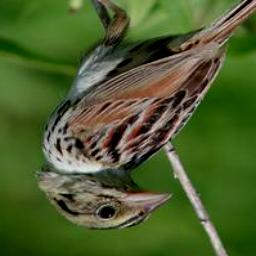Sparrow: (33, 0, 256, 231)
